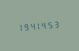five: (47, 19, 52, 29)
four: (29, 20, 34, 31), (41, 19, 46, 30)
nine: (23, 21, 28, 31)
one: (17, 21, 22, 32), (35, 20, 40, 30)
three: (53, 18, 58, 29)
